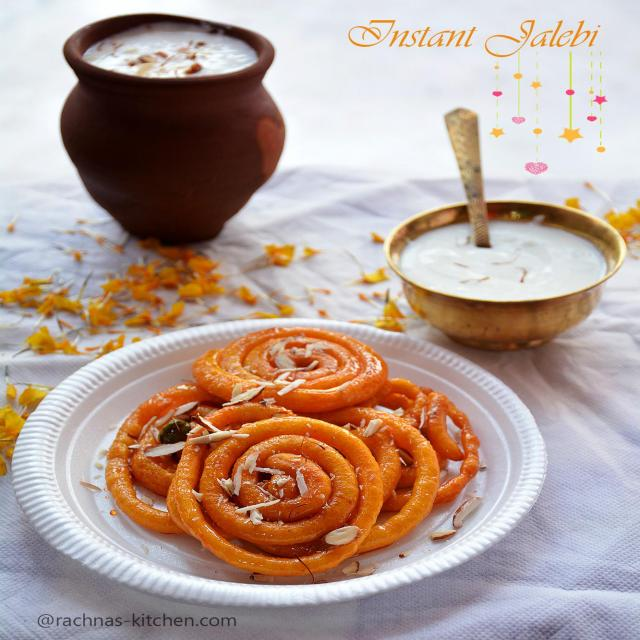jalebi: (122, 322, 497, 580)
